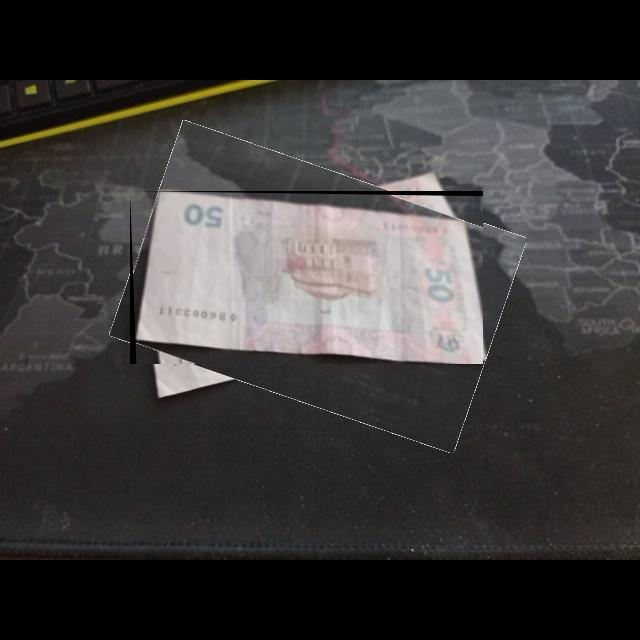50uah: (135, 192, 484, 365)
